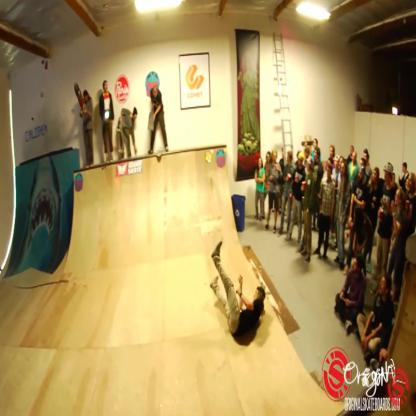Fall_Down: (208, 234, 268, 349)
